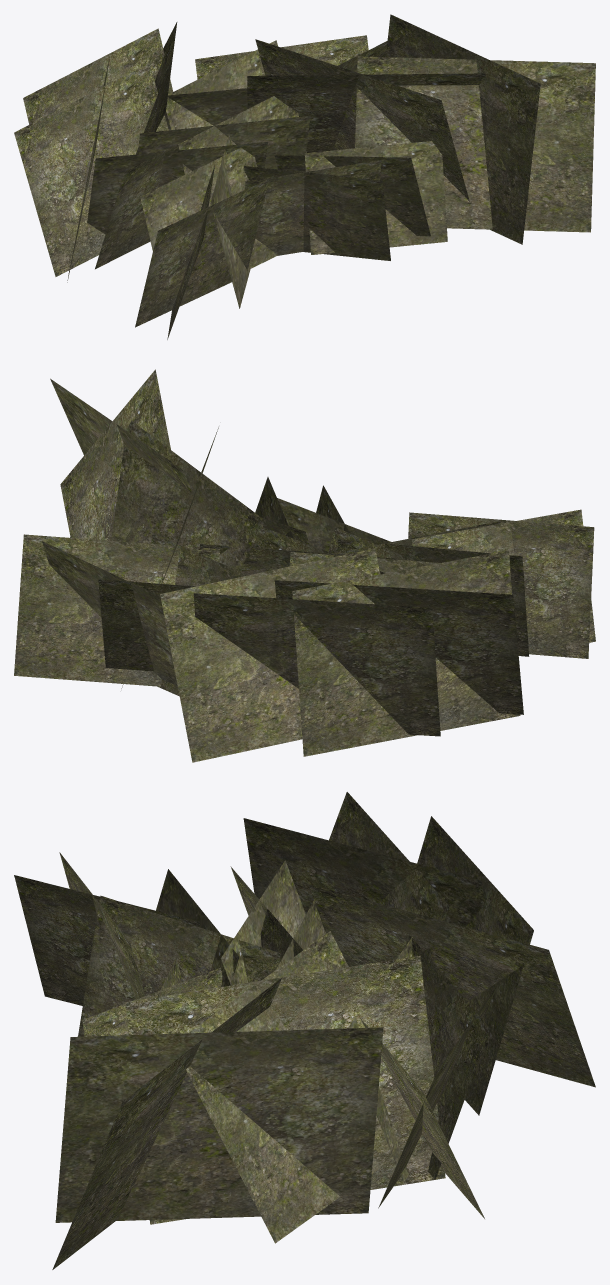
3 renders of one model, top to bottom at view 1: azimuth 30°, elevation 25°; view 2: azimuth 150°, elevation 25°; view 3: azimuth 270°, elevation 25°, orthographic. The views are drawn at different scales.
Parts seen in each view (by area): view 1: lgt_plt_0001_ms_001_045; view 2: lgt_plt_0001_ms_001_045; view 3: lgt_plt_0001_ms_001_045.
Boxes of the visible parts, x1,y1,x2,y2 form: lgt_plt_0001_ms_001_045: (14,14,595,339); lgt_plt_0001_ms_001_045: (14,369,595,762); lgt_plt_0001_ms_001_045: (14,792,595,1269).
Size of the model in its own units: 194 by 60.09 by 148.
